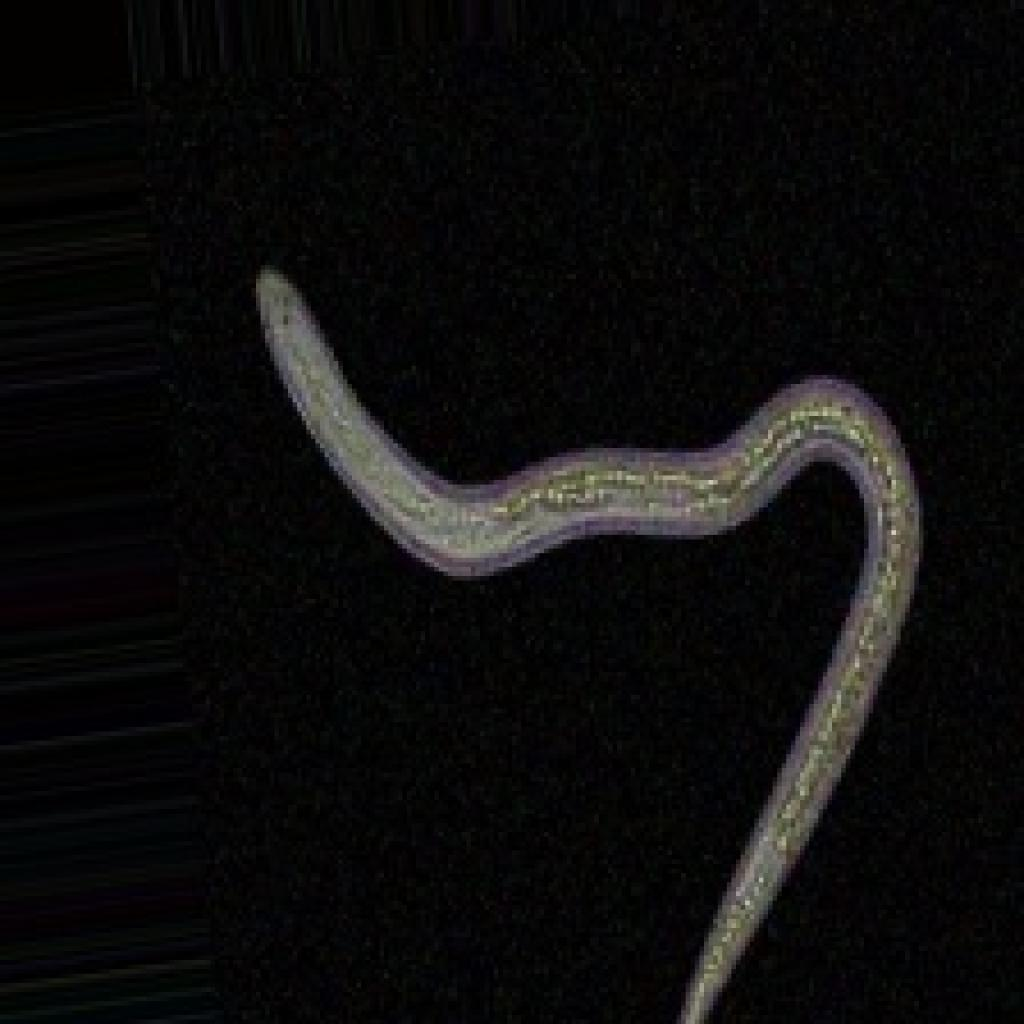Nematode: (242, 252, 928, 1020)
